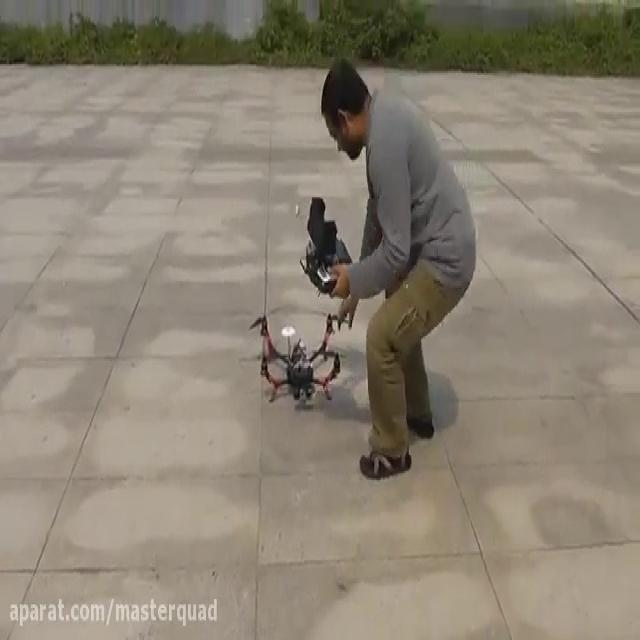drone: (247, 304, 345, 405)
